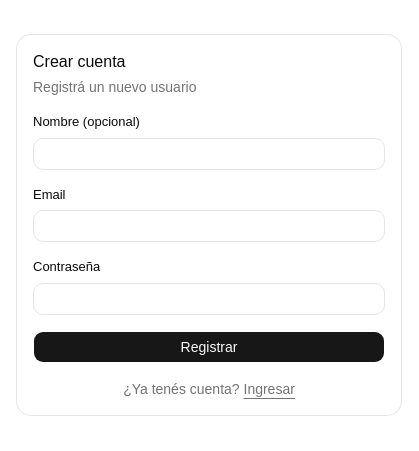
Test: Register page › shows the server-provided error message on conflict
The width and height of the screenshot is (419, 451).
In the field labelled "Email": [209, 226] box [33,210,385,242], type "taken@x.com"
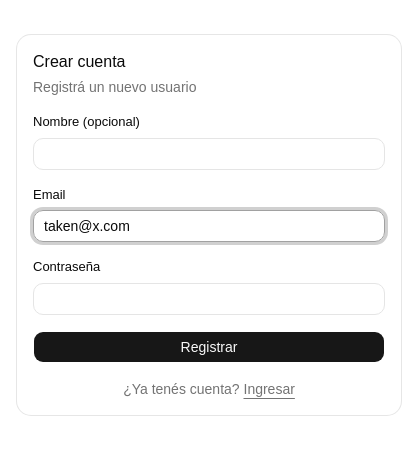
In the password field labelled "Contraseña": [209, 299] box [33,283,385,315], type "ValidPassword1"
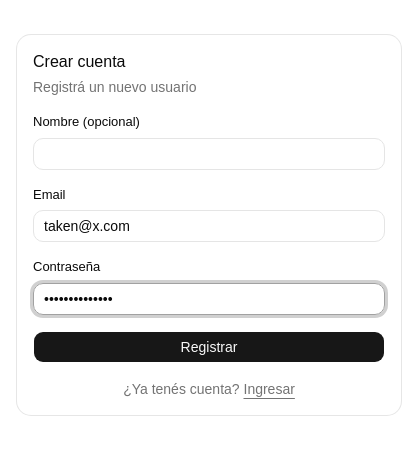
Click the button "Registrar": [209, 347] box [33,331,385,363]
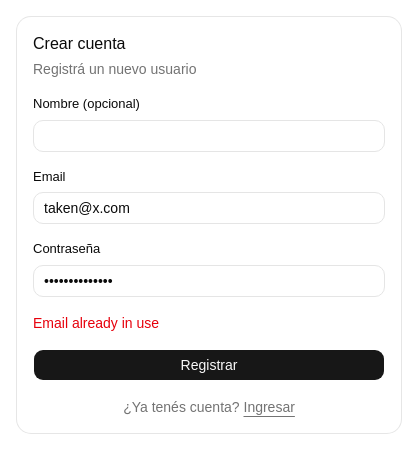
expect the text "Email already in use" is shown: met, box [33,315,159,331]
